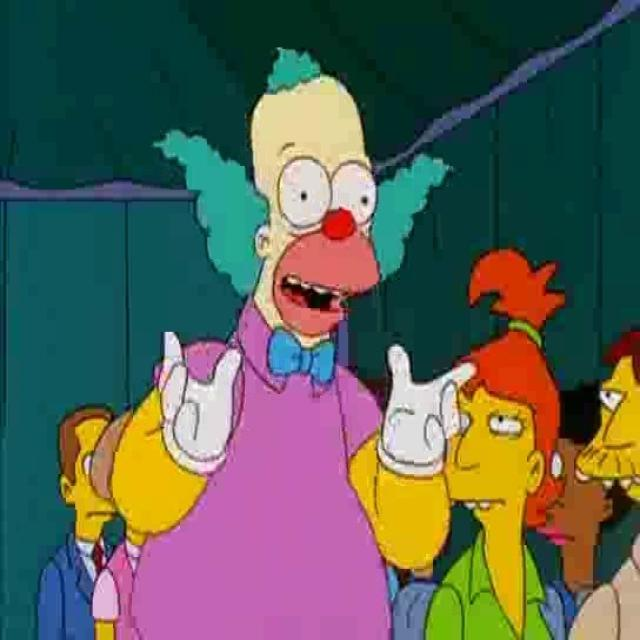Krusty the Clown: (153, 48, 454, 350)
